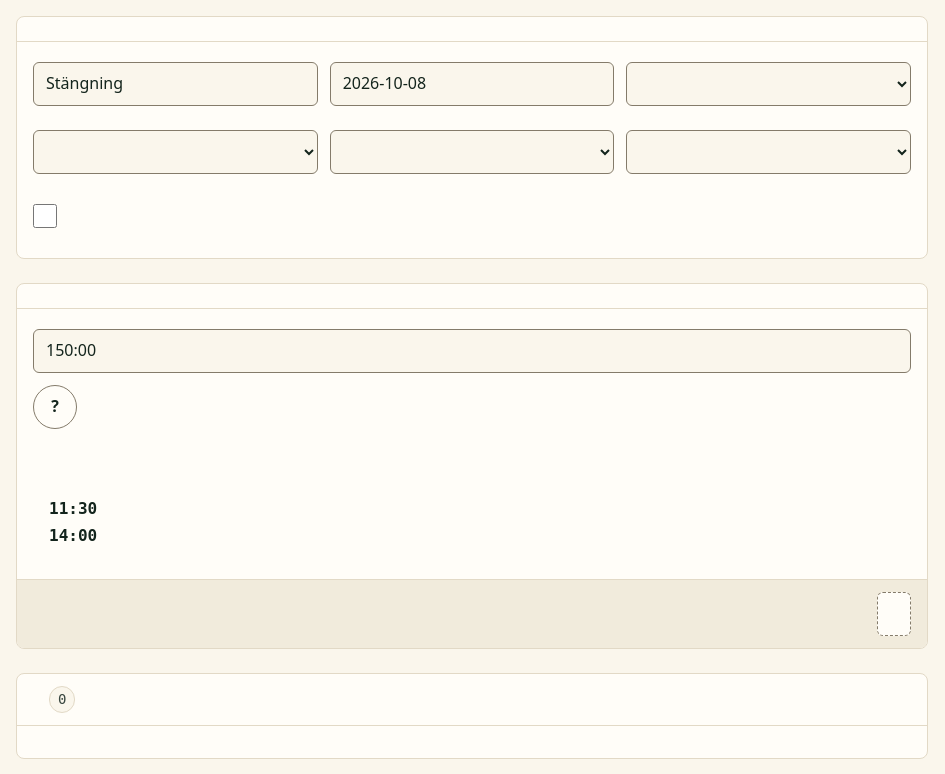
Test: closing time and distance (SOFT TR 4.16.3, TA till TR 7.4.4) › saving the fields fetches the closing time again (a new date can move the clock, ADR-0017)
The width and height of the screenshot is (945, 774).
Replace the text in the field with test id "info-name" with "Ny". click: (175, 84)
box: [33, 62, 318, 106]
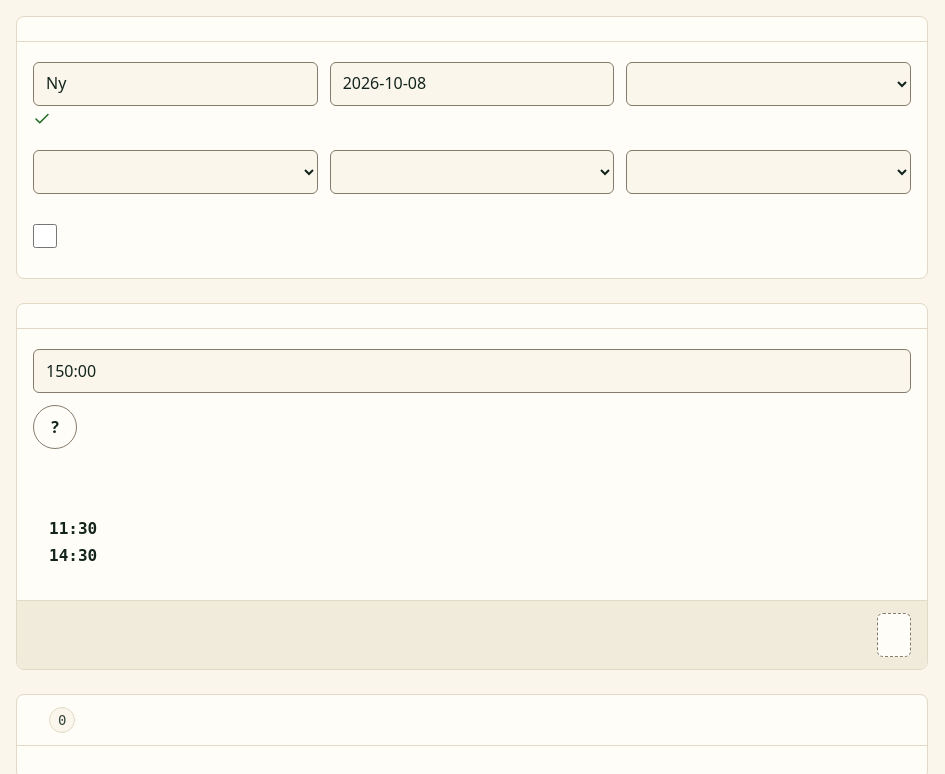
Expected: the text with test id "info-closing-time" reads "14:30", [49, 546, 97, 565]
